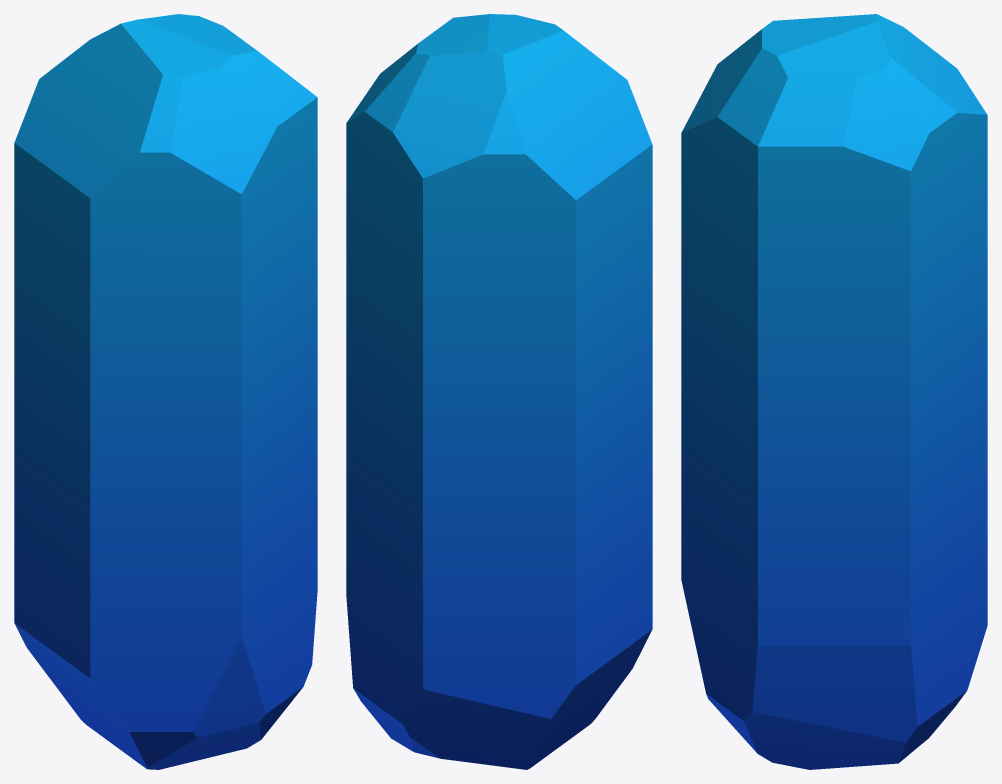
File: crystal_15.glb
The picture shows the model from 3 angles, left to right: view 1: azimuth 30°, elevation 25°; view 2: azimuth 150°, elevation 25°; view 3: azimuth 270°, elevation 25°; orthographic projection.
Visible parts, largest first — view 1: crystal_15; view 2: crystal_15; view 3: crystal_15.
Part boxes in pixels (x1,y1,x2,y2): crystal_15: (14,14,317,769); crystal_15: (346,14,652,769); crystal_15: (681,14,987,769).
Bounding box in the file's own units: 1.73 × 5.19 × 2.
1 material, 1 textured.
